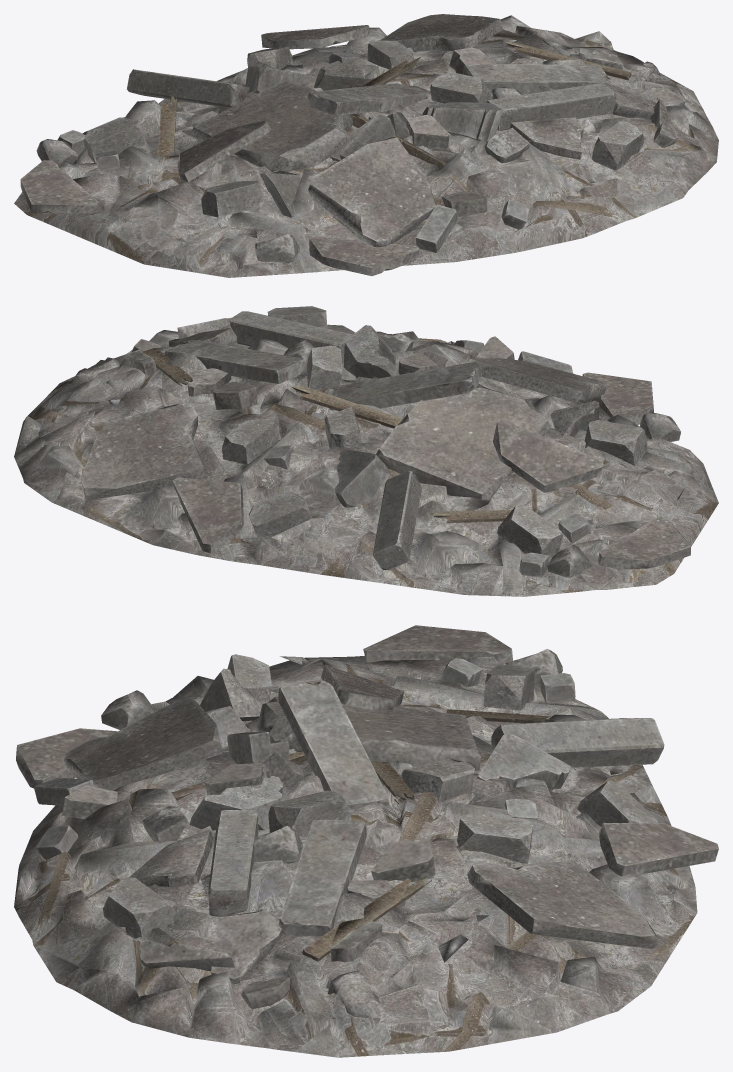
The model's file is debris_pile_b.glb.
The picture shows the model from 3 angles, top to bottom: view 1: azimuth 30°, elevation 25°; view 2: azimuth 150°, elevation 25°; view 3: azimuth 270°, elevation 25°; orthographic projection. The views are drawn at different scales.
Visible parts, largest first — view 1: debris_pile_b_LOD0; view 2: debris_pile_b_LOD0; view 3: debris_pile_b_LOD0.
Boxes of the visible parts, bbox=[...] form: debris_pile_b_LOD0: bbox=[14, 14, 718, 277]; debris_pile_b_LOD0: bbox=[14, 306, 718, 596]; debris_pile_b_LOD0: bbox=[14, 625, 718, 1057].
Size of the model in its own units: 2.04 by 0.3014 by 1.49.
2 materials, 2 textured.
